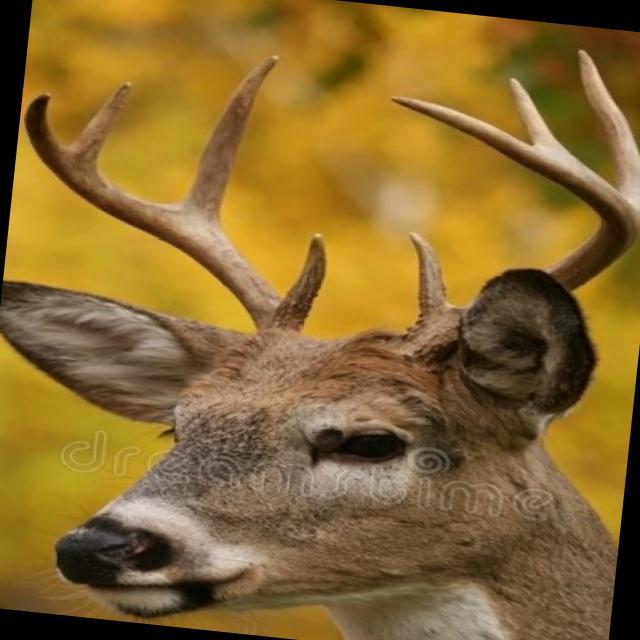L-G1: (407, 231, 453, 319)
L-G2: (577, 48, 640, 221)
L-G3: (507, 77, 559, 148)
R-F: (24, 92, 304, 334)
R-G1: (278, 232, 327, 325)
R-G2: (181, 53, 281, 222)
R-G3: (69, 82, 133, 164)
